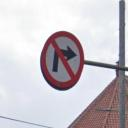NoVirarDireita: (38, 30, 88, 92)
